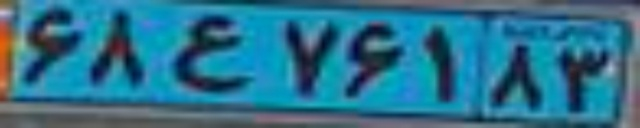1: (419, 21, 461, 102)
3: (556, 45, 614, 113)
6: (19, 7, 80, 84), (345, 20, 405, 97)
7: (282, 18, 342, 96), (488, 41, 545, 110)
8: (87, 8, 145, 88)
ain: (167, 13, 256, 92)
